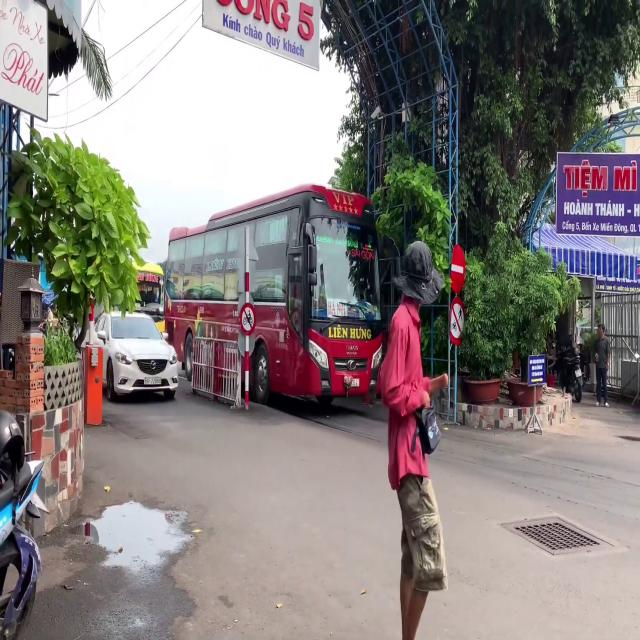bien_trang: (345, 378, 360, 386), (144, 378, 161, 384)
